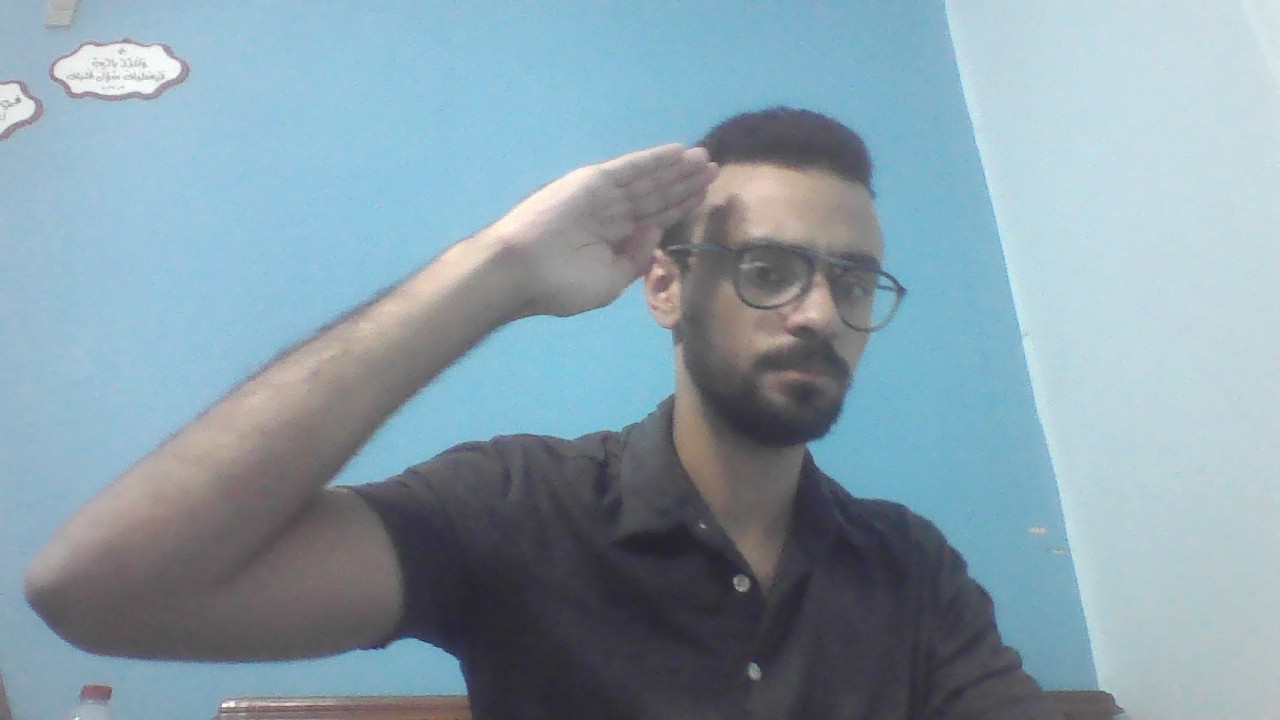hello: (28, 155, 709, 638)
